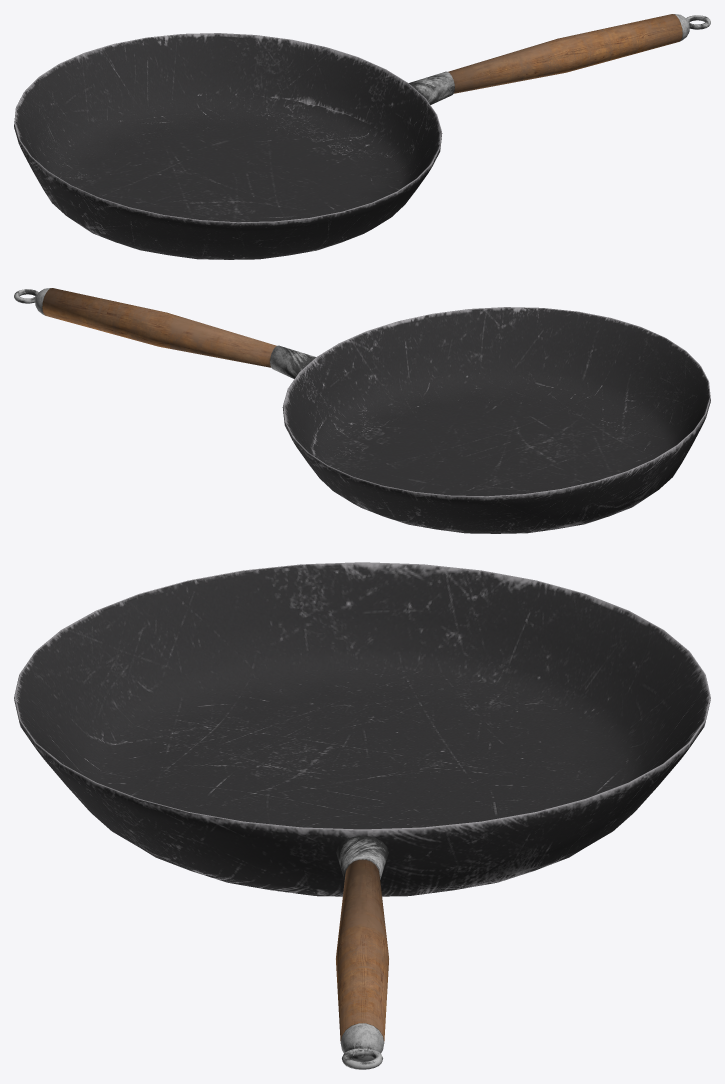
The model's file is pan_0.glb.
3 views of the same model, one above another, from view 1: azimuth 30°, elevation 25°; view 2: azimuth 150°, elevation 25°; view 3: azimuth 270°, elevation 25° (orthographic). The views are drawn at different scales.
Parts seen in each view (by area): view 1: bd8a50ef7f4848339a02371edc07e5af; view 2: bd8a50ef7f4848339a02371edc07e5af; view 3: bd8a50ef7f4848339a02371edc07e5af.
Boxes of the visible parts, box(x1,y1,x2,y2) form: bd8a50ef7f4848339a02371edc07e5af: box(14, 14, 710, 259); bd8a50ef7f4848339a02371edc07e5af: box(14, 288, 710, 533); bd8a50ef7f4848339a02371edc07e5af: box(14, 562, 710, 1069).
Size of the model in its own units: 1 by 0.0955 by 0.6.
3 materials, 3 textured.
